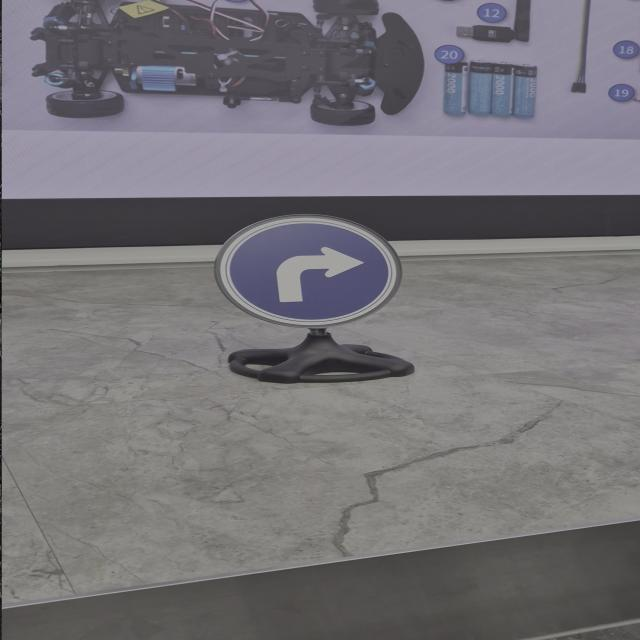right_dierection: (186, 205, 440, 350)
